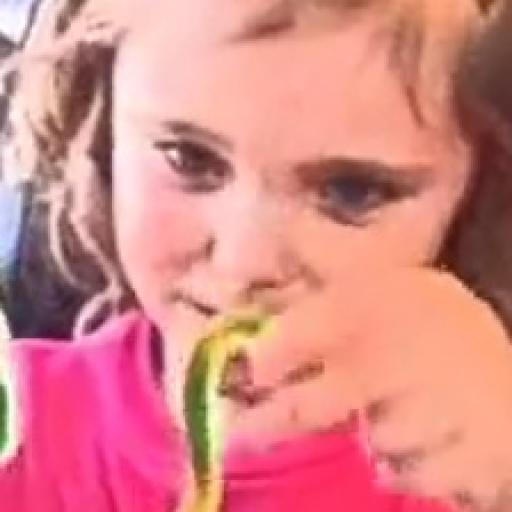Autism: (86, 0, 480, 420)
